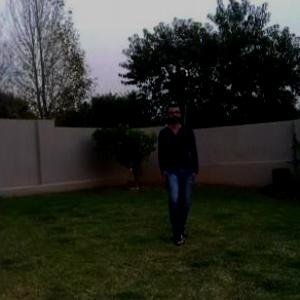follow: (153, 97, 204, 244)
